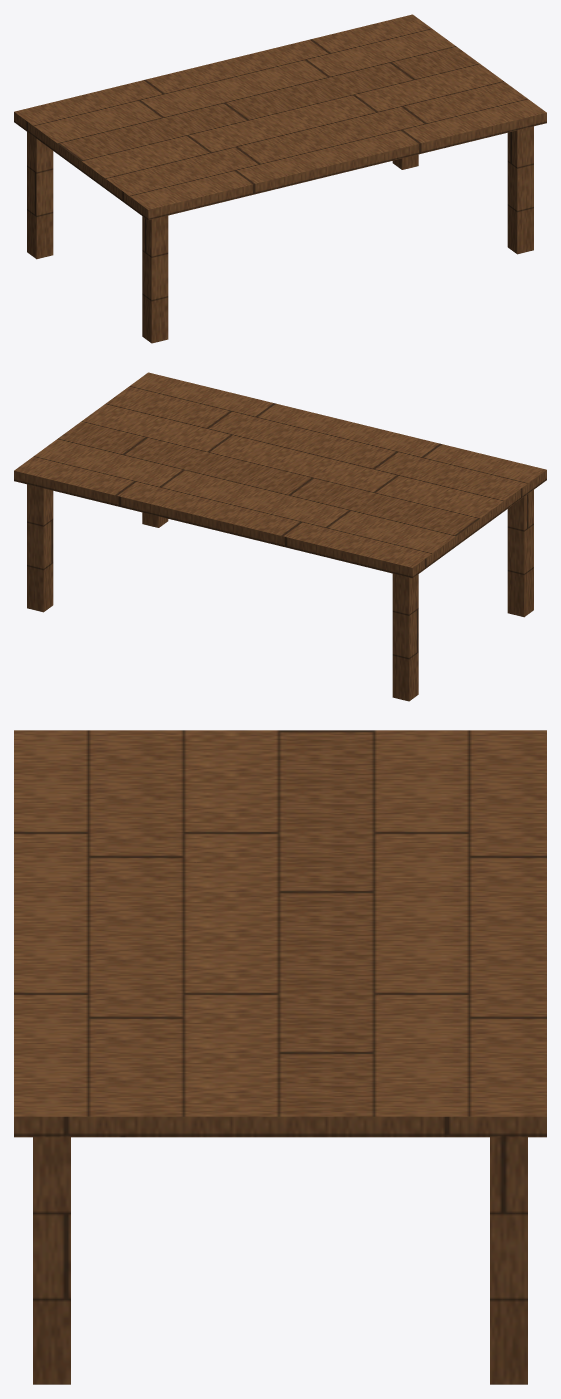
File: table.obj
The picture shows the model from 3 angles, top to bottom: view 1: azimuth 30°, elevation 25°; view 2: azimuth 150°, elevation 25°; view 3: azimuth 270°, elevation 25°; orthographic projection. The views are drawn at different scales.
Visible parts, largest first — view 1: wood; view 2: wood; view 3: wood.
Part boxes in pixels (bbox=[...]): wood: bbox=[14, 14, 546, 343]; wood: bbox=[14, 372, 546, 701]; wood: bbox=[14, 730, 546, 1384].
Size of the model in its own units: 2.4 by 0.8 by 1.4.
Materials: 1 (1 with a texture image).
